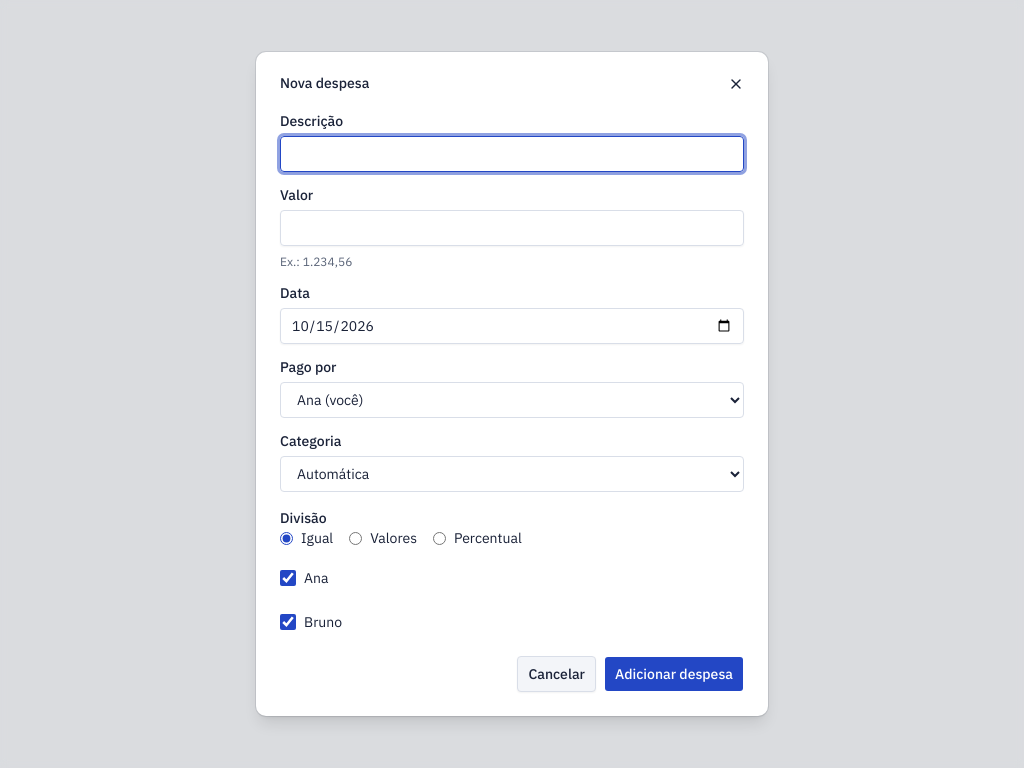
Test: ExpenseForm › tira os erros das partes quando a divisão muda e os campos somem
The image size is (1024, 768).
Type "Jantar" into the field labelled "Descrição".
click(512, 154); type("Jantar")  # box [280,136,744,172]
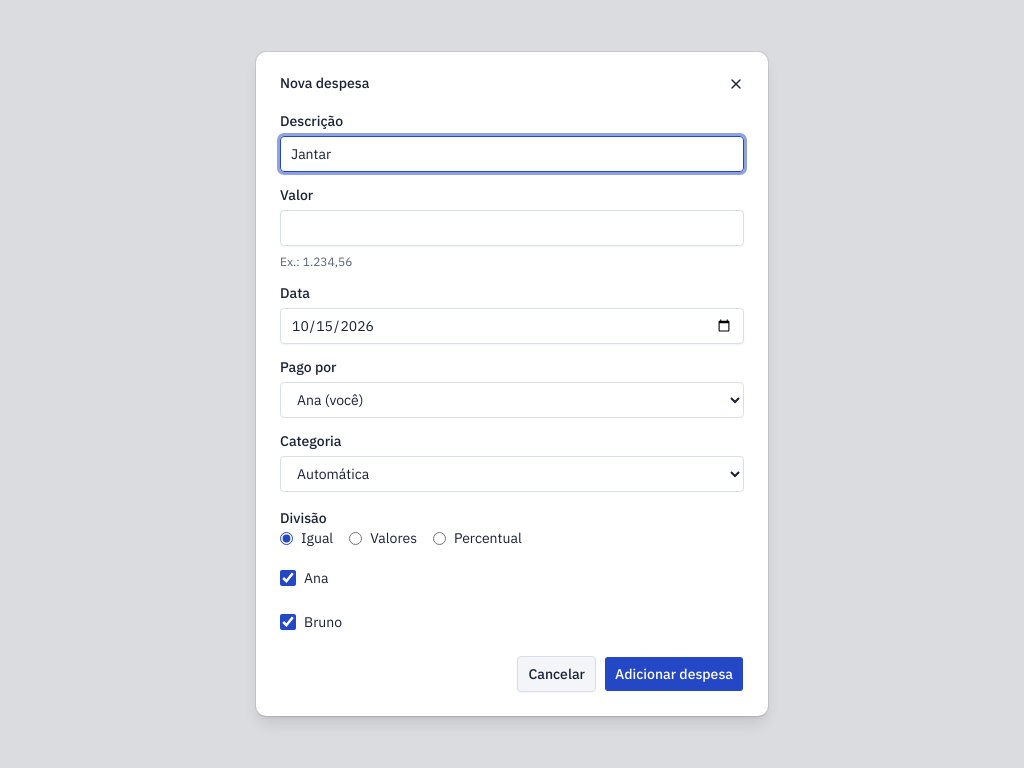
Type "100,00" into the field labelled "Valor".
click(512, 228); type("100,00")  # box [280,210,744,246]
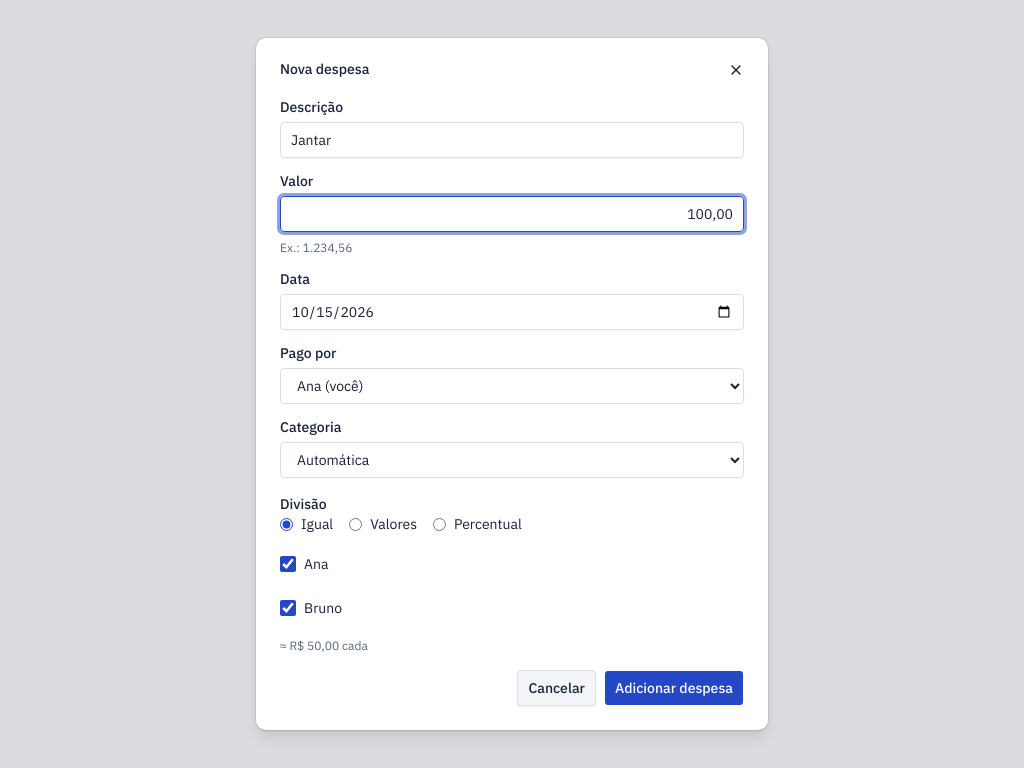
Click the radio button labelled "Valores".
click(356, 524)  # box [349,518,362,530]
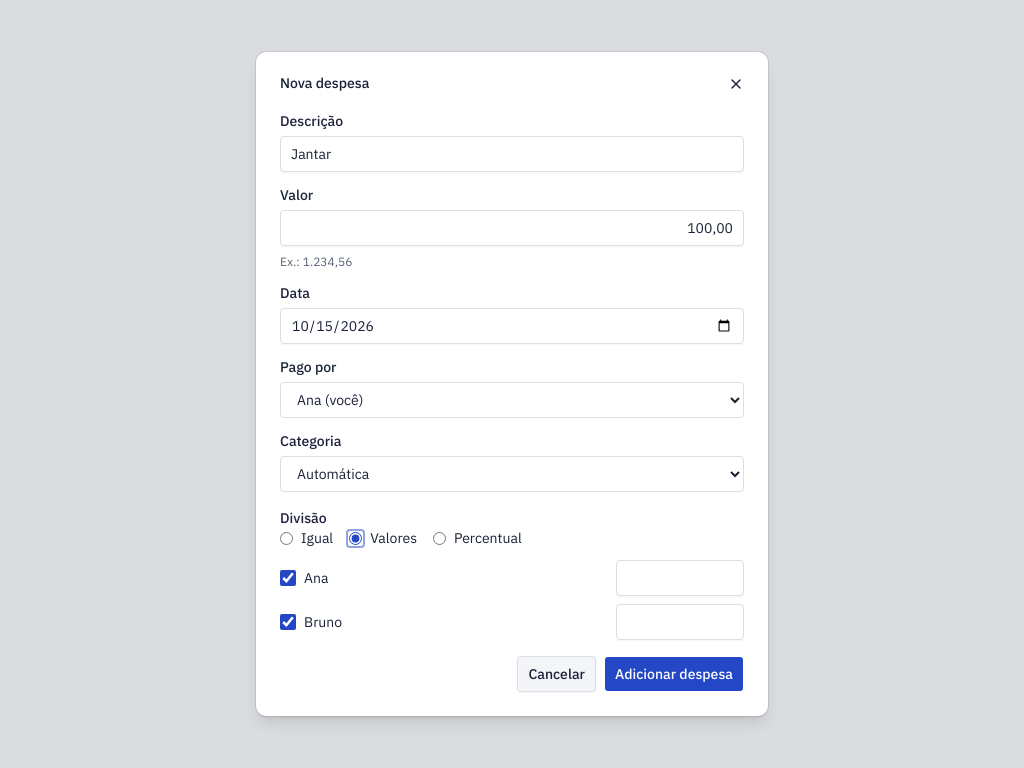
Click the button "Adicionar despesa".
click(674, 674)  # box [604,656,744,692]
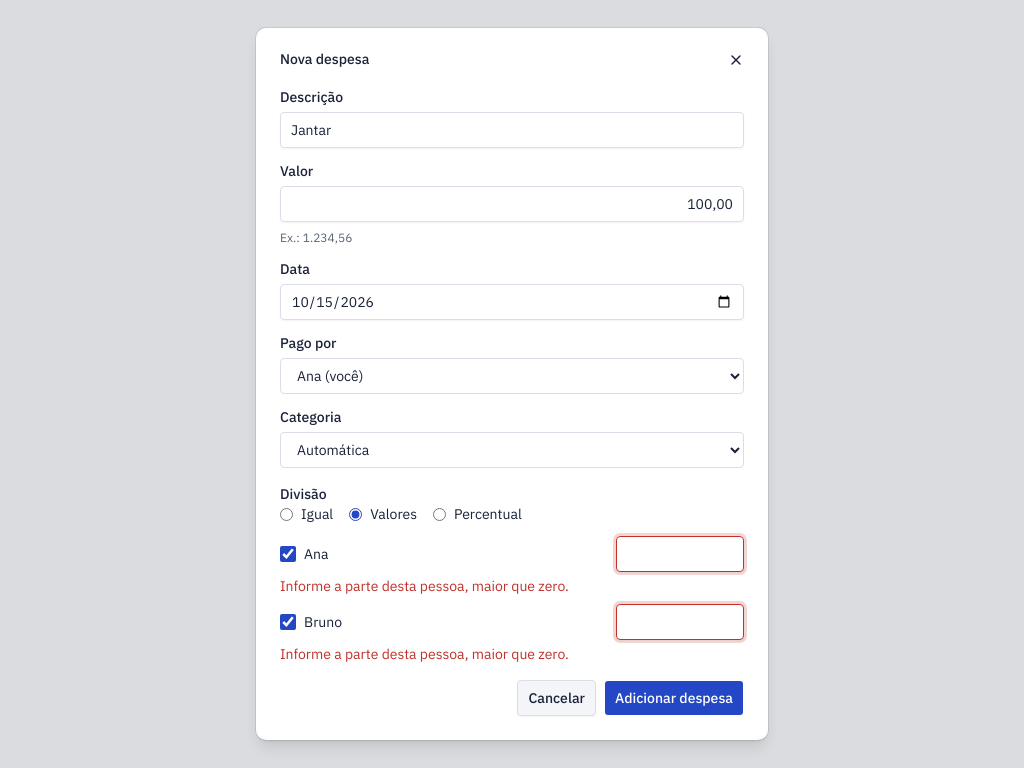
Result: the text "Informe a parte desta pessoa, maior que zero." is shown 2 times at [280,577,569,595]; [280,645,569,663]
Click the radio button labelled "Igual".
click(286, 514)  # box [280,508,293,520]
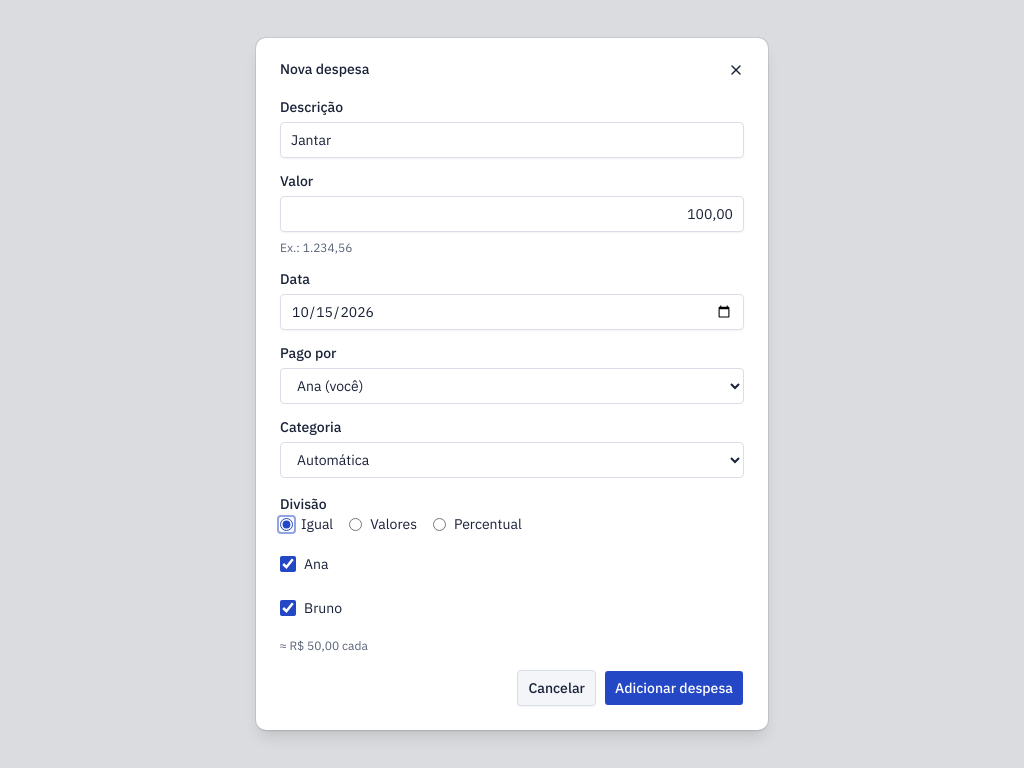
Result: the text "Informe a parte desta pessoa, maior que zero." is not shown
